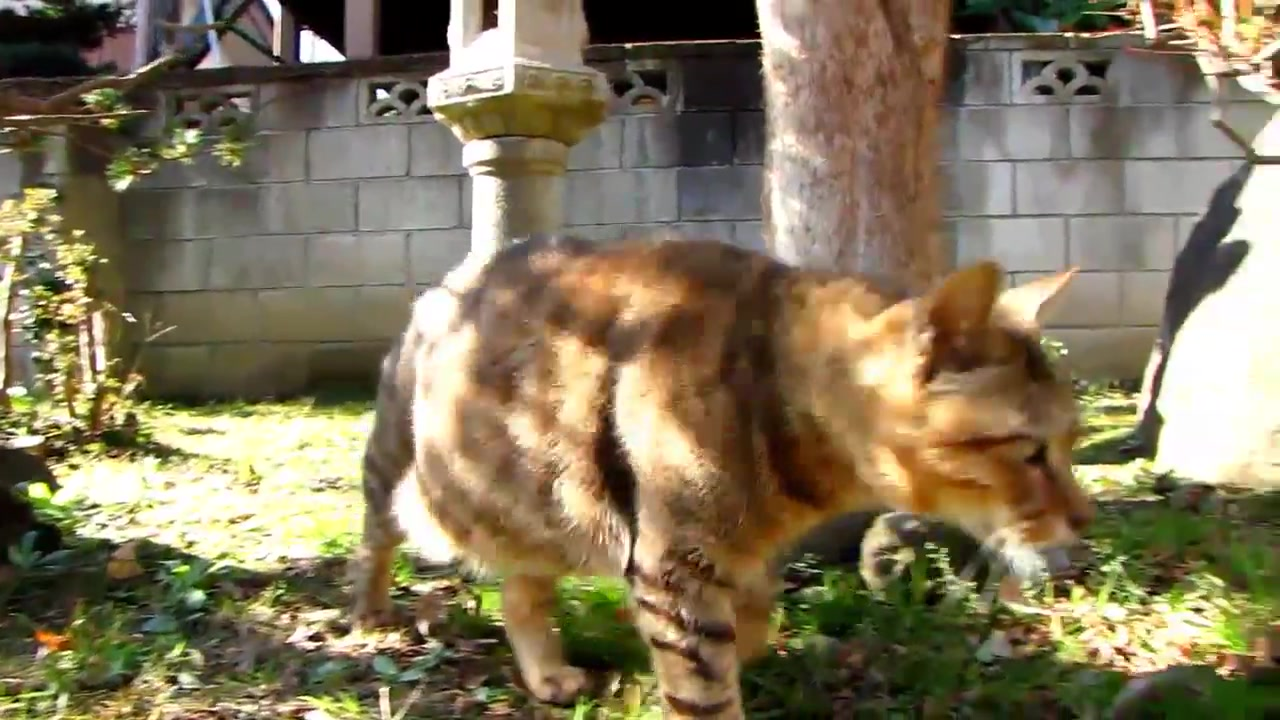cat: (358, 232, 1095, 720)
